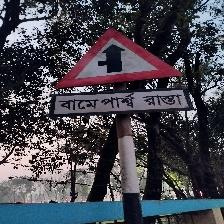Side-road-left: (51, 26, 194, 120)
